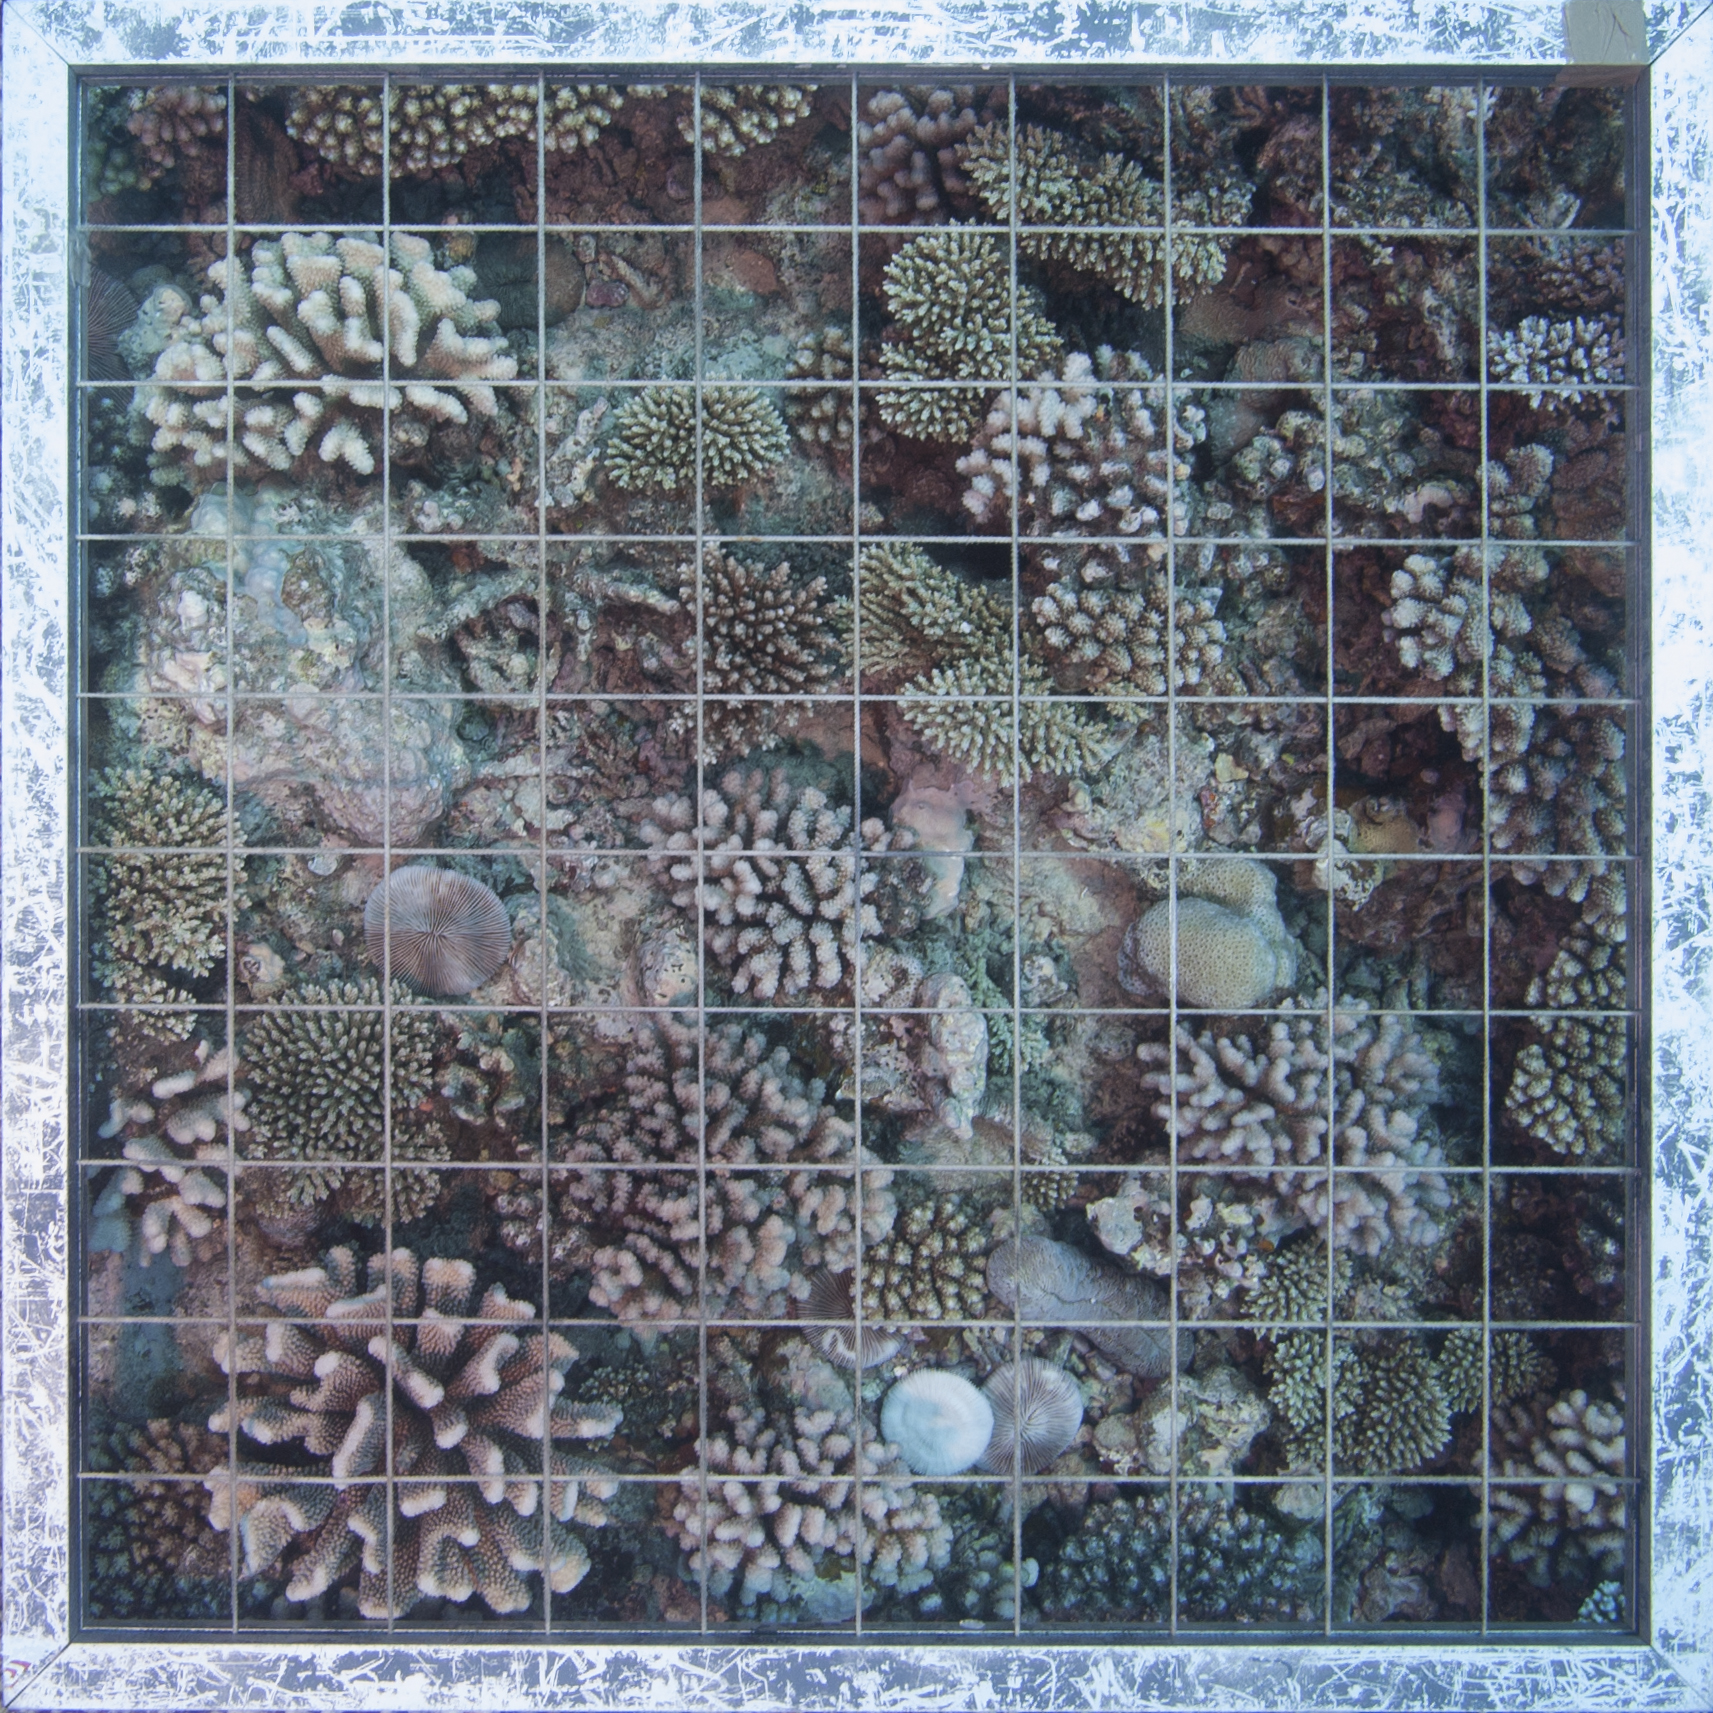alive: (204, 1246, 620, 1617)
